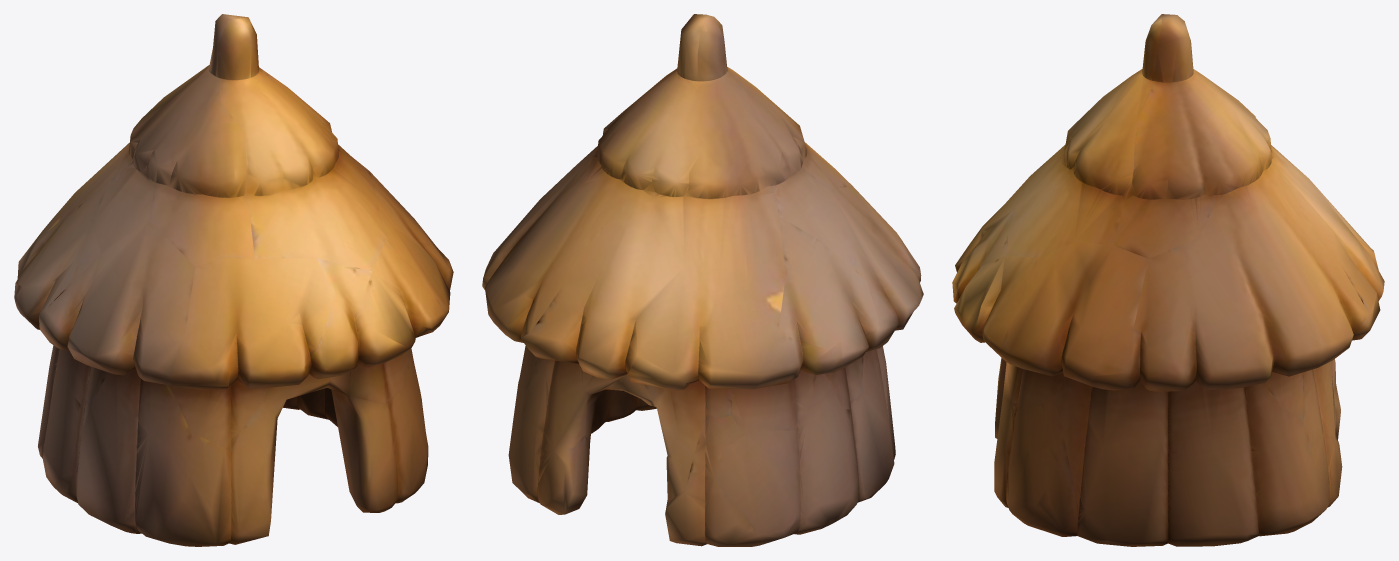
The model's file is hut_pbr.glb.
3 views of the same model, side by side, from view 1: azimuth 30°, elevation 25°; view 2: azimuth 150°, elevation 25°; view 3: azimuth 270°, elevation 25° (orthographic).
Visible parts, largest first — view 1: model; view 2: model; view 3: model.
Part boxes in pixels (left/top/right/bottom): model: left=14, top=14, right=453, bottom=546; model: left=482, top=14, right=923, bottom=546; model: left=952, top=14, right=1384, bottom=546.
Size of the model in its own units: 1.47 by 1.71 by 1.47.
1 material, 1 textured.
